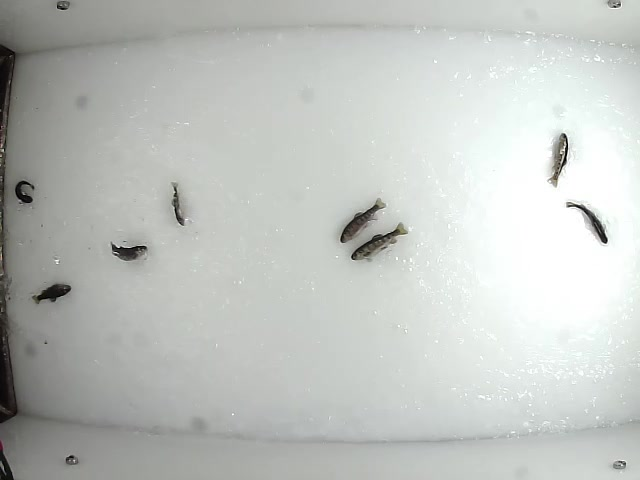fish: (345, 219, 409, 263), (337, 196, 389, 244), (564, 201, 610, 248), (544, 131, 570, 189), (29, 283, 73, 306), (169, 179, 189, 228), (109, 239, 151, 262), (14, 179, 37, 204)
